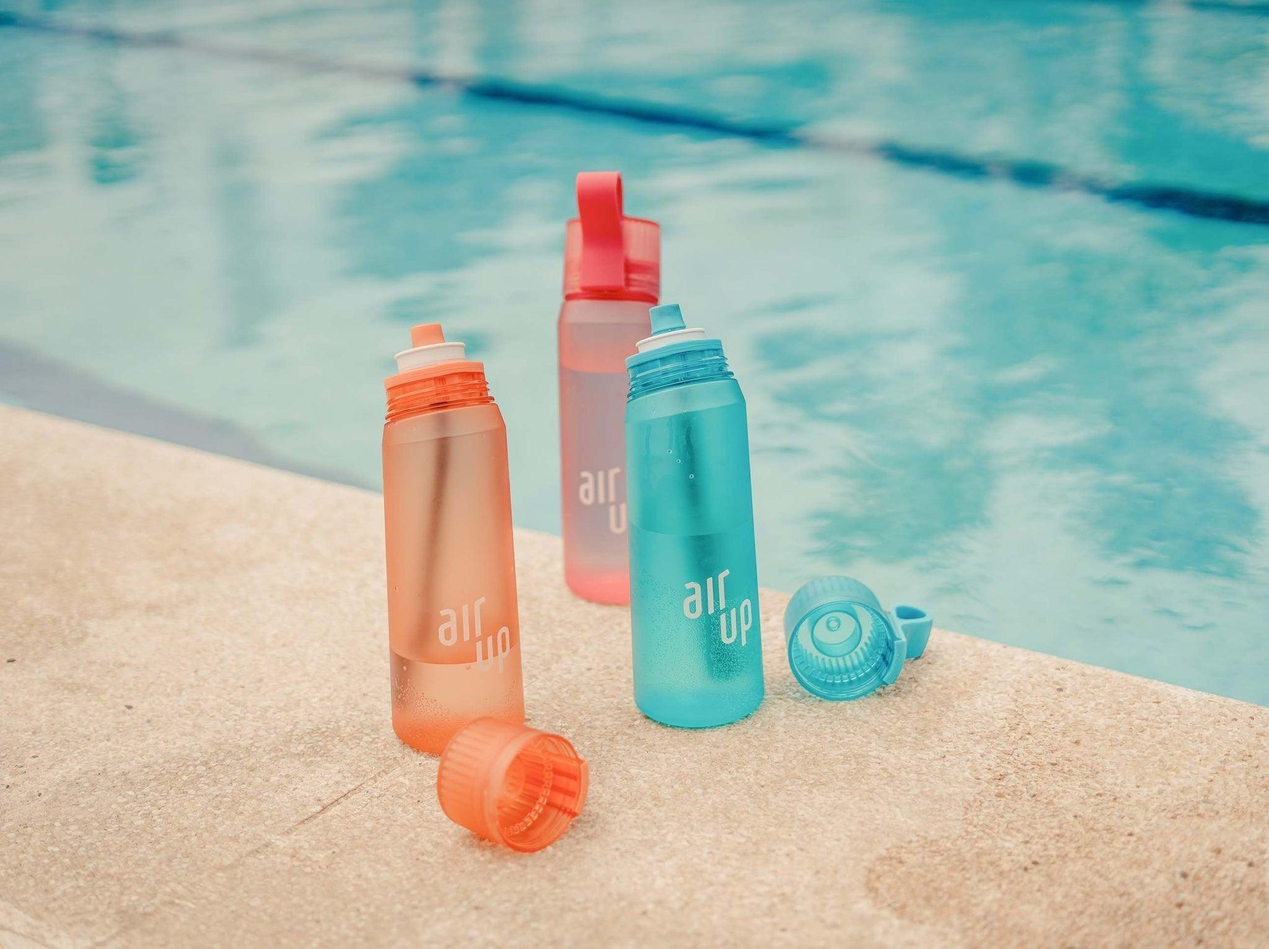gym bottle: (378, 319, 533, 755), (618, 303, 768, 735), (551, 167, 665, 605)
